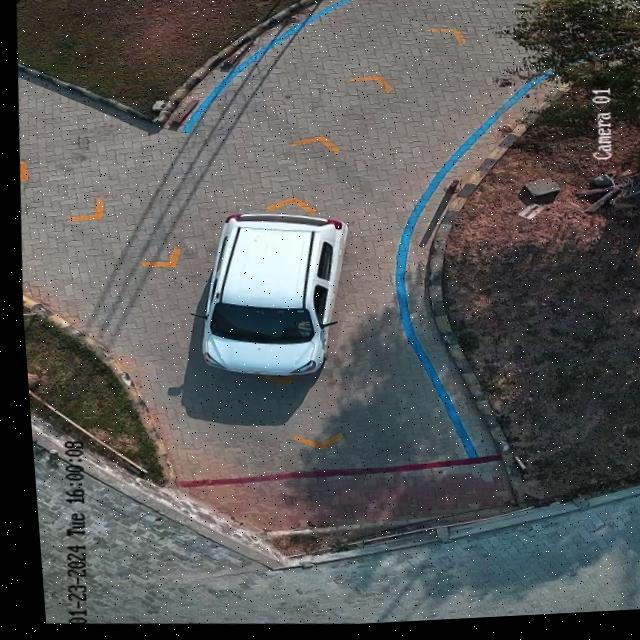car: (195, 214, 343, 379)
